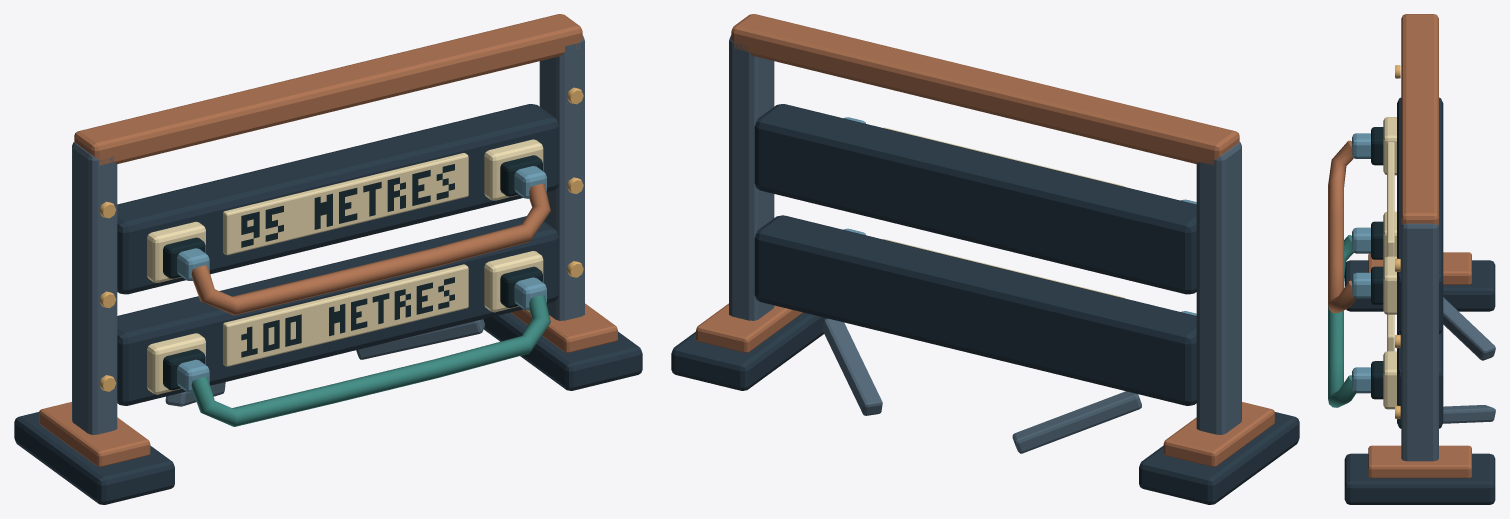
The picture shows the model from 3 angles, left to right: view 1: azimuth 30°, elevation 25°; view 2: azimuth 150°, elevation 25°; view 3: azimuth 270°, elevation 25°; orthographic projection. The views are drawn at different scales.
Visible parts, largest first — view 1: PR106 enamel and hardware; view 2: PR106 enamel and hardware; view 3: PR106 enamel and hardware.
Boxes of the visible parts, x1,y1,x2,y2 form: PR106 enamel and hardware: [14, 14, 642, 504]; PR106 enamel and hardware: [671, 14, 1299, 504]; PR106 enamel and hardware: [1328, 14, 1495, 504].
Size of the model in its own units: 1.8 by 1.05 by 0.5666.
